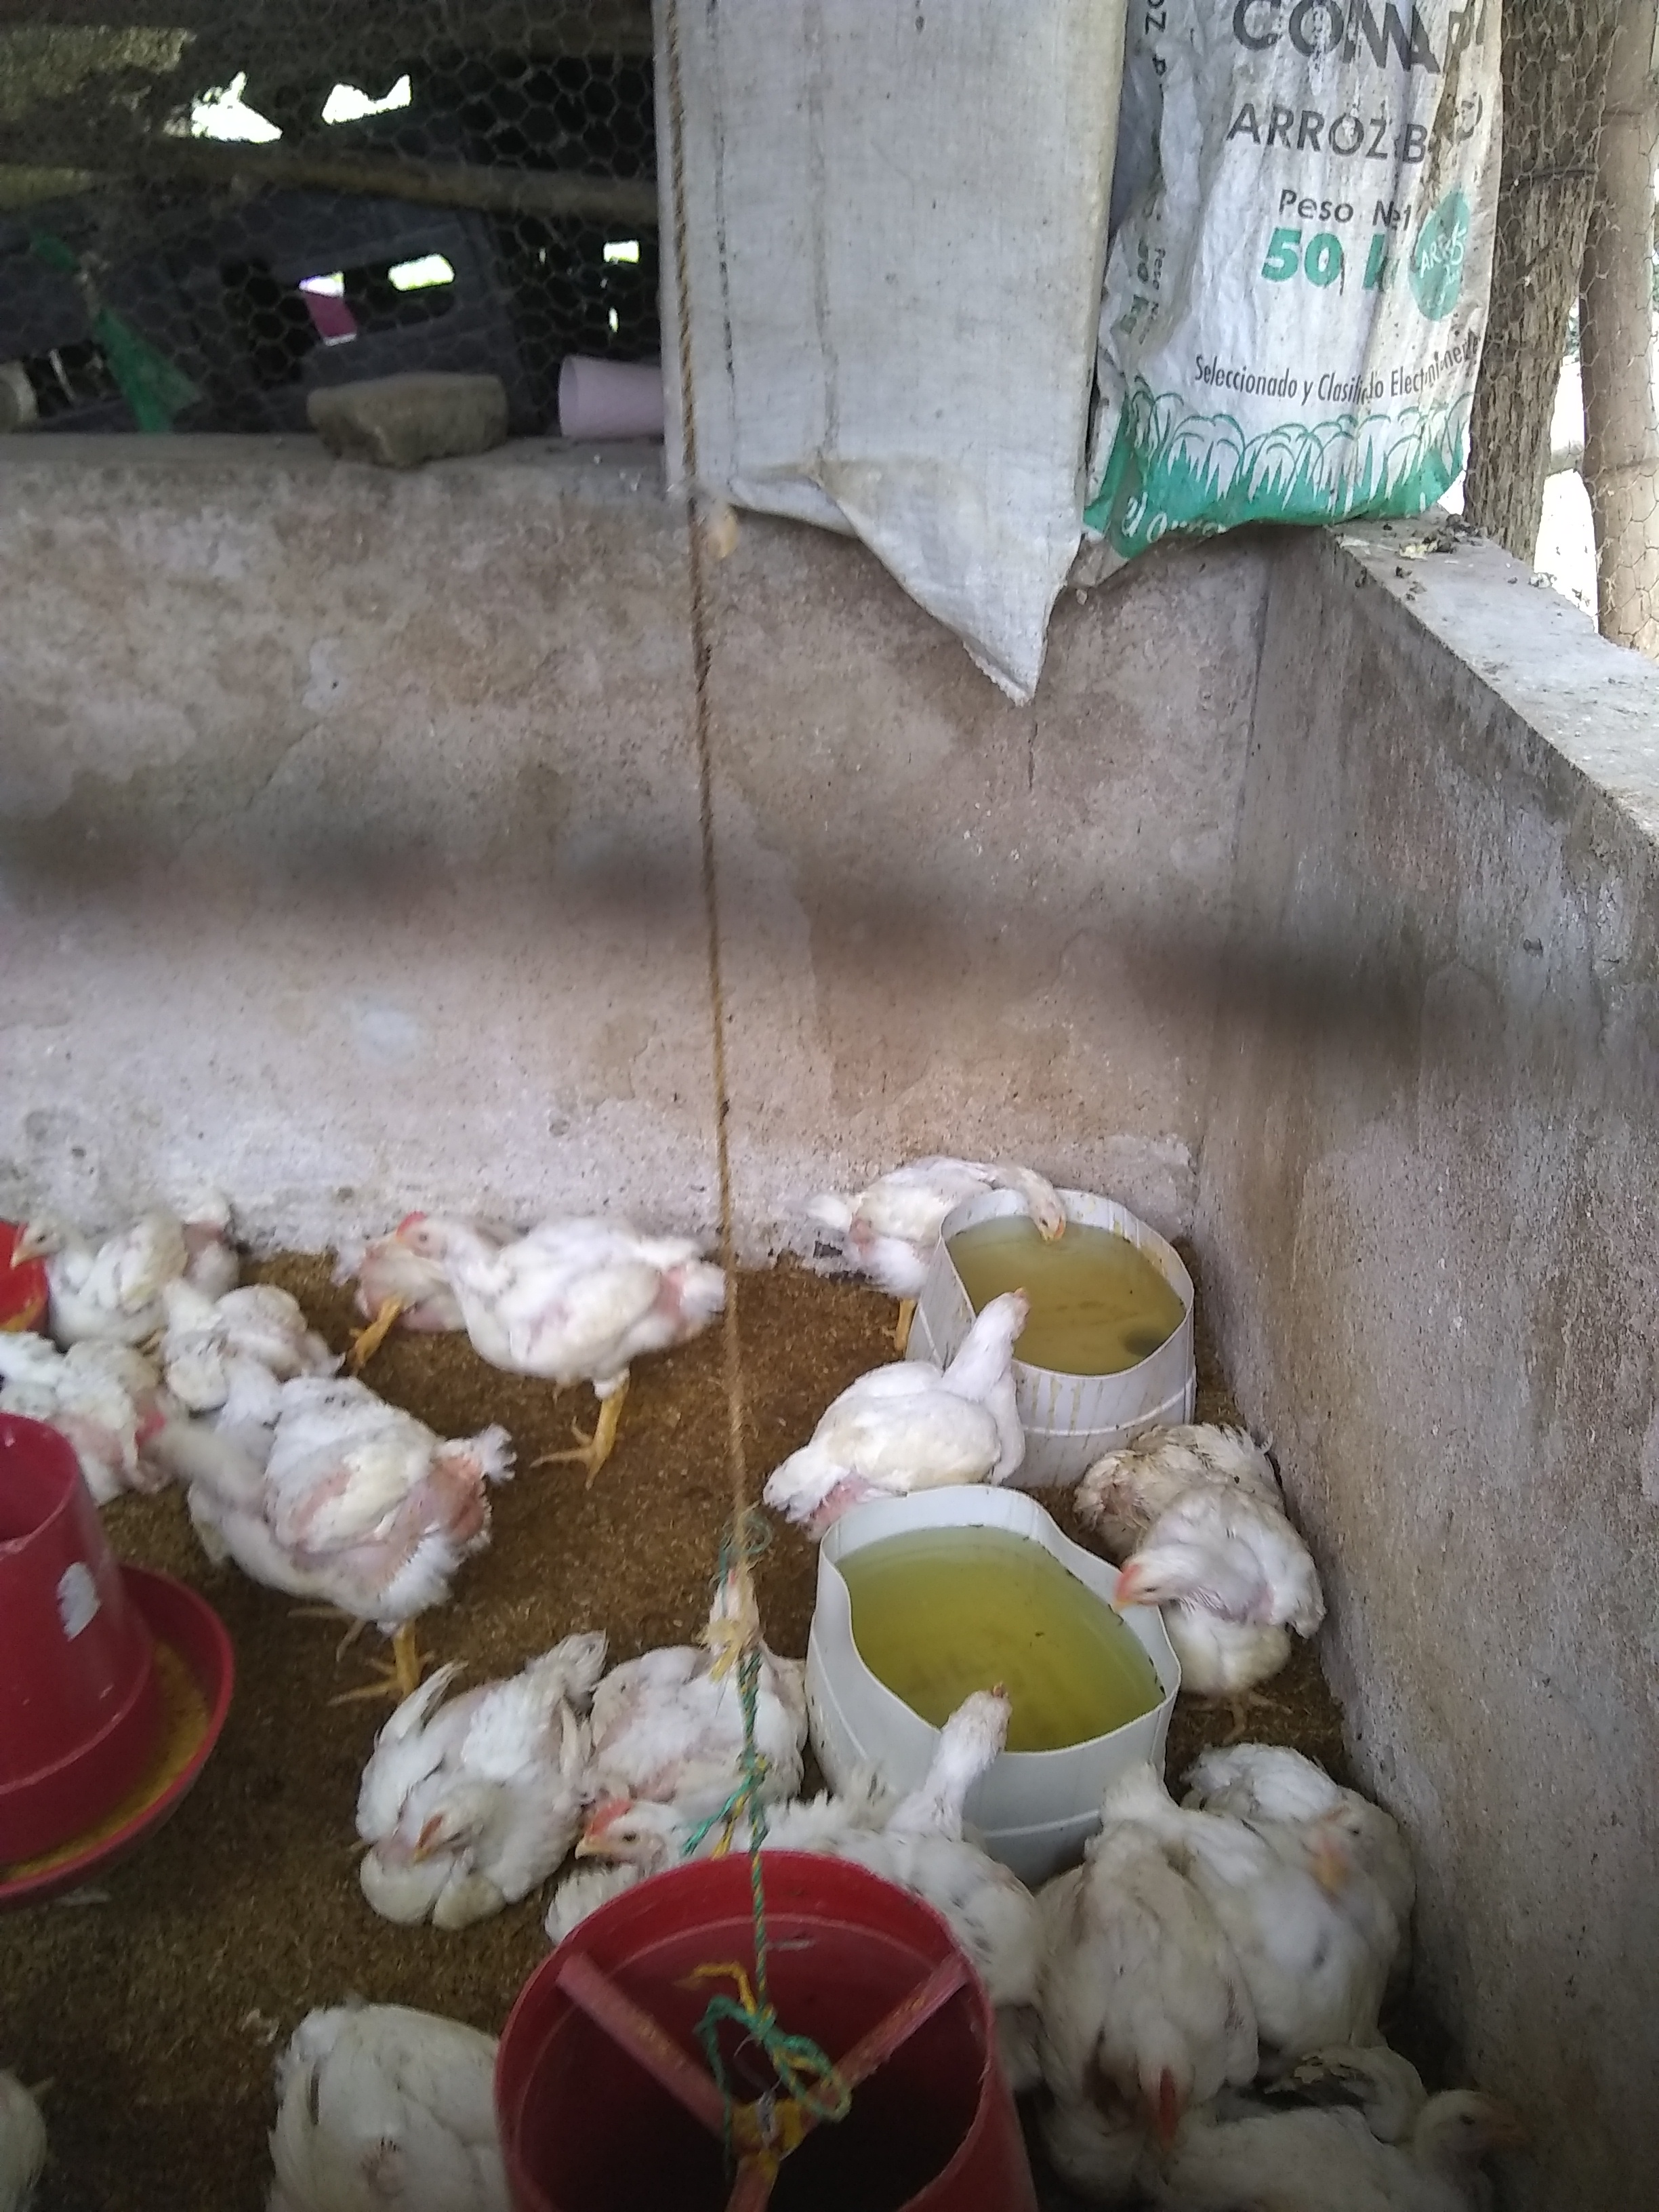Pollos: (125, 1383, 521, 1616), (357, 1588, 620, 1928), (762, 1261, 1039, 1538), (1042, 1811, 1265, 2146), (408, 1204, 748, 1411), (821, 1686, 1051, 1989), (1096, 1423, 1323, 1717), (1143, 2057, 1567, 2212), (240, 1986, 525, 2200), (570, 1632, 835, 1853), (1218, 1742, 1455, 1977), (812, 1103, 1070, 1291), (0, 1305, 146, 1501), (153, 1261, 315, 1407), (17, 1195, 173, 1332), (336, 1212, 476, 1348)
